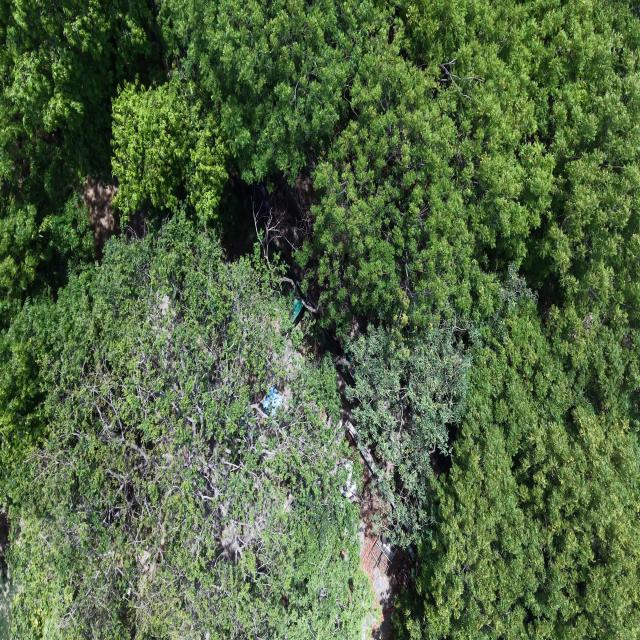DRY_AREA: (360, 467, 410, 639), (83, 178, 119, 259)
VEGETATION_TREE: (0, 0, 639, 639), (8, 215, 374, 639), (397, 298, 639, 639), (0, 0, 159, 474), (0, 0, 160, 327), (346, 324, 470, 546), (112, 76, 228, 225)
